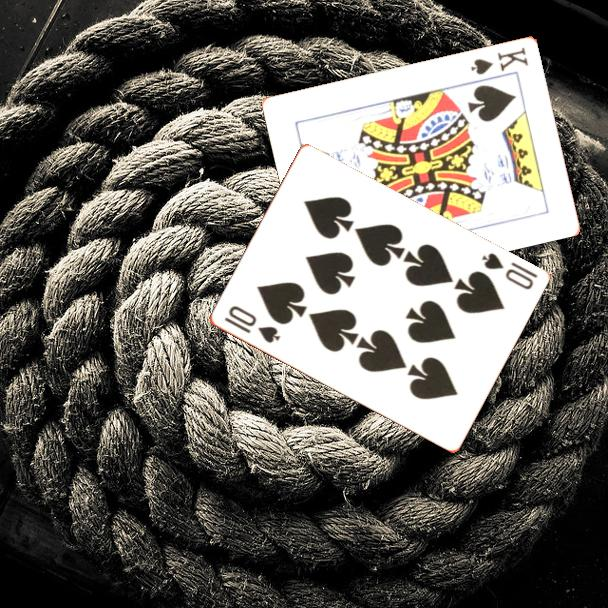s10: (220, 302, 283, 346), (478, 249, 540, 293)
s13: (467, 43, 531, 77)
